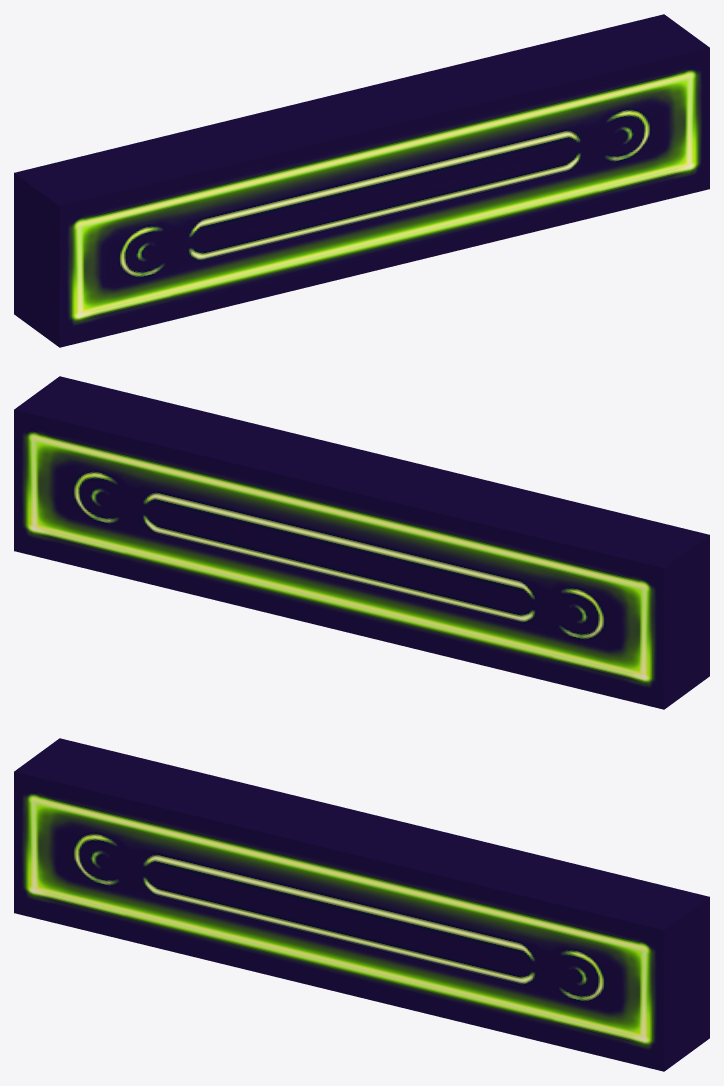
Rendered from urban_small_border.gltf.
The picture shows the model from 3 angles, top to bottom: view 1: azimuth 30°, elevation 25°; view 2: azimuth 150°, elevation 25°; view 3: azimuth 330°, elevation 25°; orthographic projection.
Visible parts, largest first — view 1: urban_small_border_glb; view 2: urban_small_border_glb; view 3: urban_small_border_glb.
Part boxes in pixels (x1=…): urban_small_border_glb: x1=14, y1=14, x2=709, y2=347; urban_small_border_glb: x1=14, y1=376, x2=709, y2=709; urban_small_border_glb: x1=14, y1=738, x2=709, y2=1071.
Size of what is drawn, in the model's own units: 2.27 by 0.4726 by 0.2771.
1 material, 1 textured.
